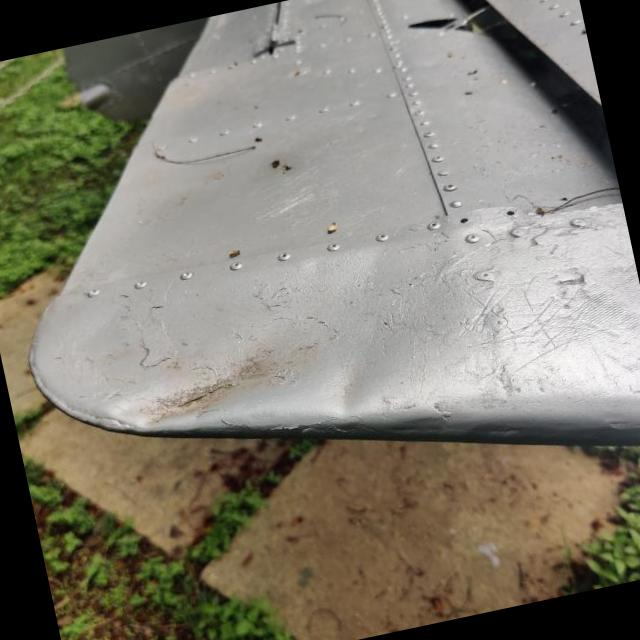Dent: (285, 334, 427, 439)
Scratch: (503, 226, 640, 384)
